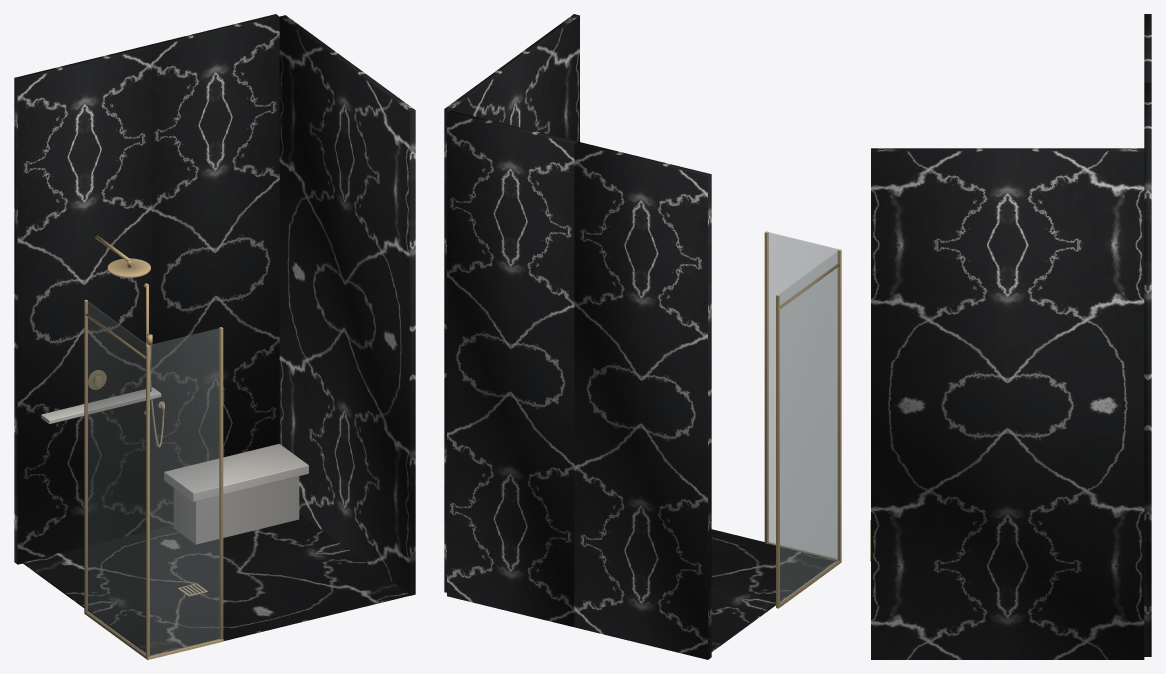
File: bath_shower.gltf
3 renders of one model, left to right at view 1: azimuth 30°, elevation 25°; view 2: azimuth 150°, elevation 25°; view 3: azimuth 270°, elevation 25°, orthographic. The views are drawn at different scales.
Visible parts, largest first — view 1: BathShower_BackPanel, BathShower_RightPanel, BathShower_Tray, BathShower_Glass_Front, BathShower_Glass_Side, BathShower_PipingBrass, BathShower_BenchBase, BathShower_Bench, BathShower_PipingLedge; view 2: BathShower_BackPanel, BathShower_Glass_Front, BathShower_Glass_Side, BathShower_RightPanel, BathShower_Tray, BathShower_PipingBrass; view 3: BathShower_RightPanel, BathShower_BackPanel.
Boxes of the visible parts, <box> form: BathShower_BackPanel: <box>14,14,279,564</box>; BathShower_RightPanel: <box>279,15,415,595</box>; BathShower_Tray: <box>22,514,409,655</box>; BathShower_Glass_Front: <box>149,327,222,656</box>; BathShower_Glass_Side: <box>86,300,146,654</box>; BathShower_PipingBrass: <box>84,235,223,659</box>; BathShower_BenchBase: <box>173,476,299,544</box>; BathShower_Bench: <box>164,444,308,501</box>; BathShower_PipingLedge: <box>41,387,161,423</box>; BathShower_BackPanel: <box>447,110,711,659</box>; BathShower_Glass_Front: <box>768,232,838,558</box>; BathShower_Glass_Side: <box>777,250,839,606</box>; BathShower_RightPanel: <box>444,14,579,592</box>; BathShower_Tray: <box>711,529,835,651</box>; BathShower_PipingBrass: <box>764,231,841,608</box>; BathShower_RightPanel: <box>871,148,1144,659</box>; BathShower_BackPanel: <box>1144,14,1151,656</box>.
Size of the model in its own units: 2.2 by 3.8 by 1.9.
Materials: 5 (1 with a texture image).
